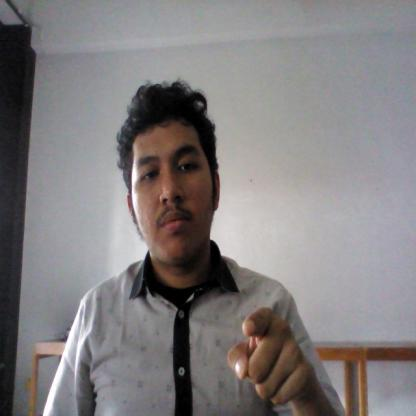Kamu: (216, 296, 324, 413)
